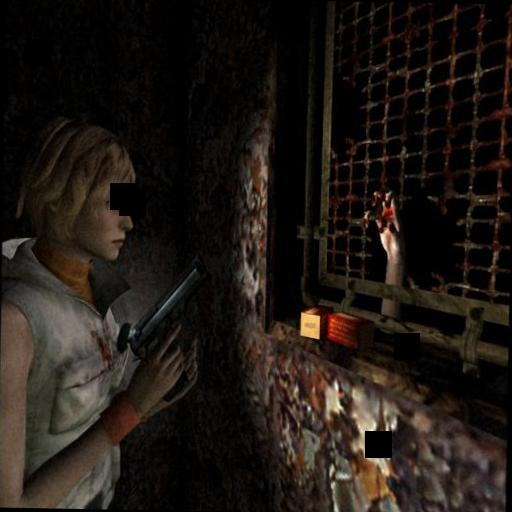Handgun: (123, 260, 213, 392)
